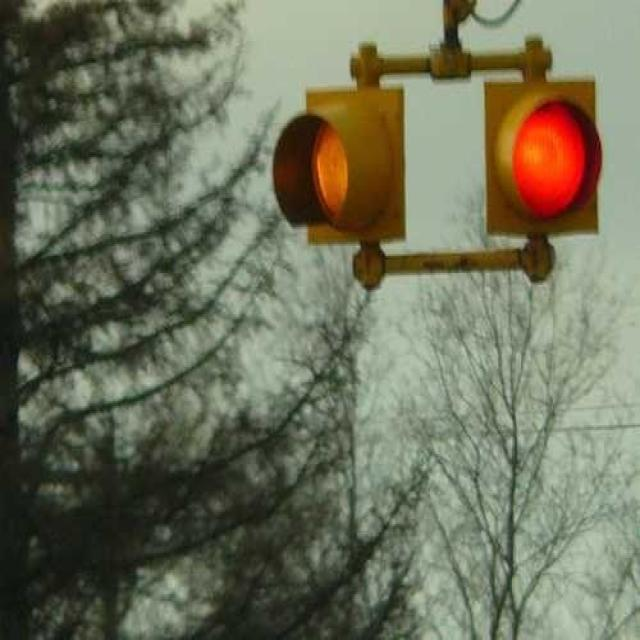Traffic Light -Red-: (476, 72, 607, 247)
Traffic Light -Yellow-: (262, 80, 414, 256)
